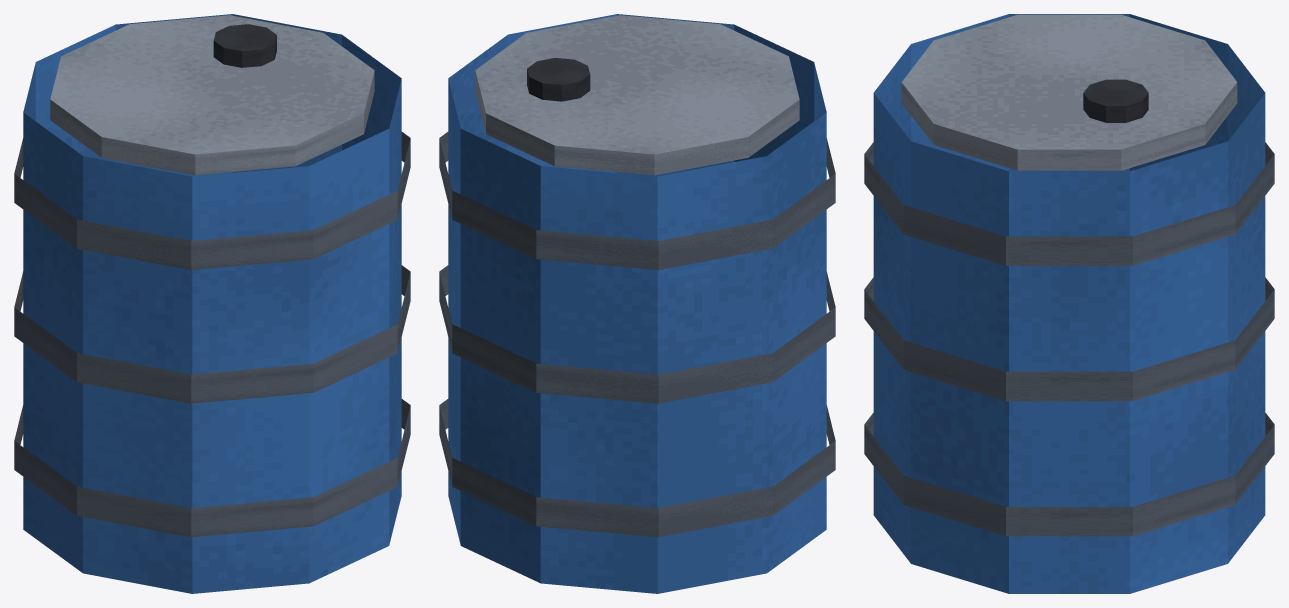
The model's file is prop_barrel_blue.glb.
3 views of the same model, side by side, from view 1: azimuth 30°, elevation 25°; view 2: azimuth 150°, elevation 25°; view 3: azimuth 270°, elevation 25° (orthographic).
Visible parts, largest first — view 1: prop_barrel_blue; view 2: prop_barrel_blue; view 3: prop_barrel_blue.
Part boxes in pixels (x1,y1,x2,y2): prop_barrel_blue: (14, 14, 410, 593); prop_barrel_blue: (439, 14, 835, 593); prop_barrel_blue: (864, 14, 1274, 593).
Size of the model in its own units: 0.8369 by 1.06 by 0.88.
Materials: 1 (1 with a texture image).
